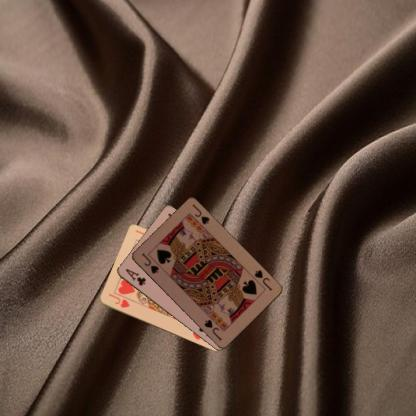Ac: (122, 266, 147, 287)
Jh: (106, 291, 130, 309)
Js: (252, 267, 274, 292), (139, 250, 160, 275)
